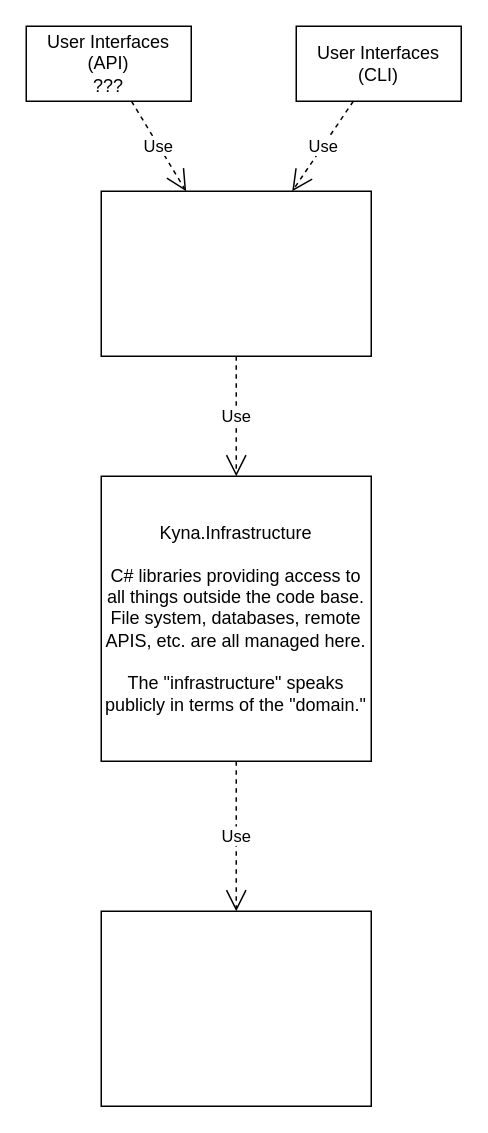
Image size: 488x1133. Some labels were removed from this diagram. Each missing label, with the box of its shape:
Domain C# libraries providing data structures related to the application domain.: (100, 910, 371, 1106)
Kyna.ApplicationServices C# libraries providing workflow services.: (100, 190, 371, 356)
